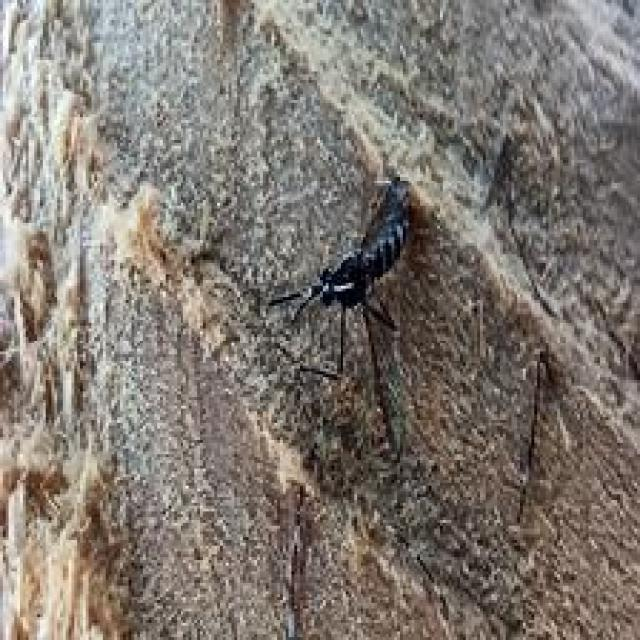Aedes albopictus: (266, 173, 417, 381)
